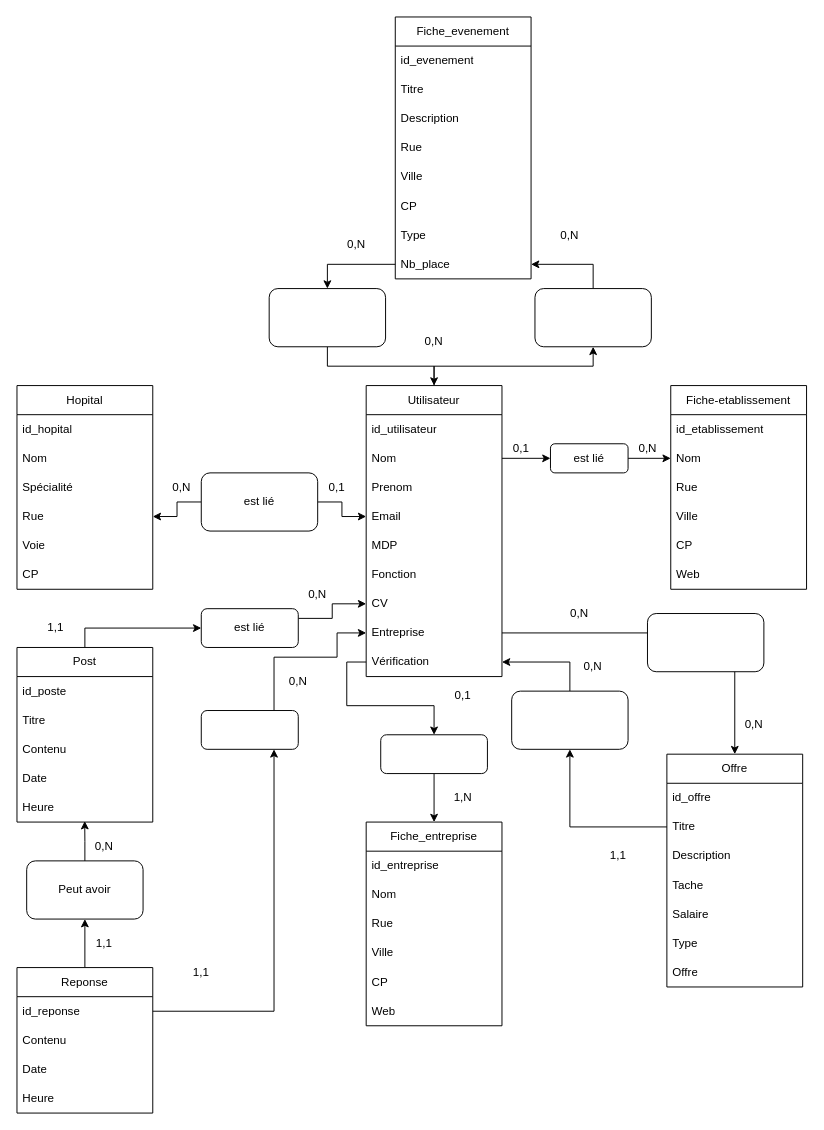
This 824x1130 diagram has some shape labels left out. Each missing label, with the centre of its shape:
"ecrit" belongs at point (249, 729).
"Fait partie" belongs at point (433, 754).
"organise" belongs at point (327, 317).
"participe" belongs at point (592, 317).
"Postule" belongs at point (705, 642).
"redige" belongs at point (569, 719).
